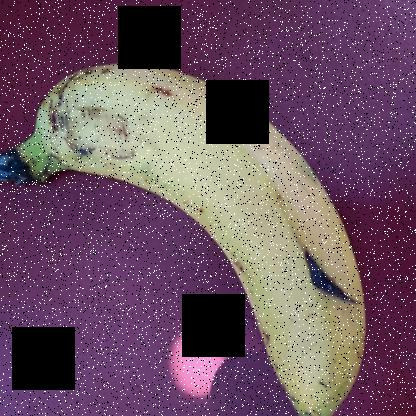ripe: (37, 45, 370, 415)
